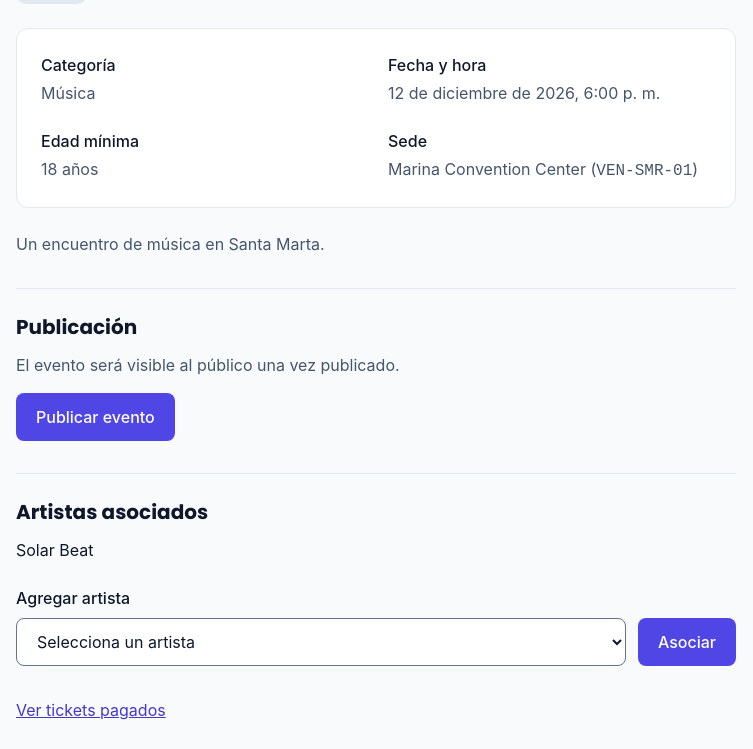
Test: Publicación de eventos › asocia el artista elegido y actualiza el evento y la lista de sesión
(page scrolled)
Select "Neon Waves" in the dropdown labelled "Agregar artista" at (321, 642), box [16,618,626,666]
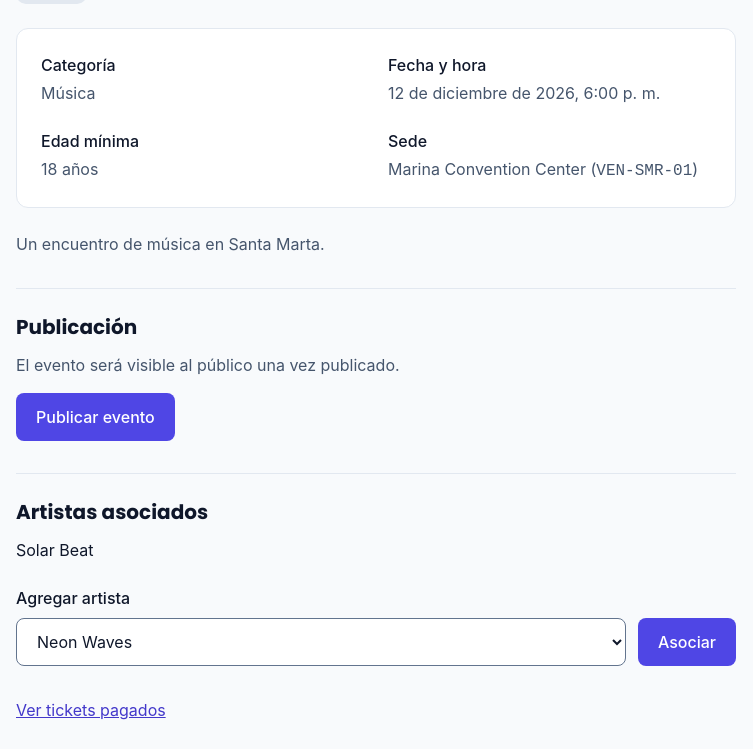
Click the button "Asociar" at (687, 642), box [638,618,736,666]
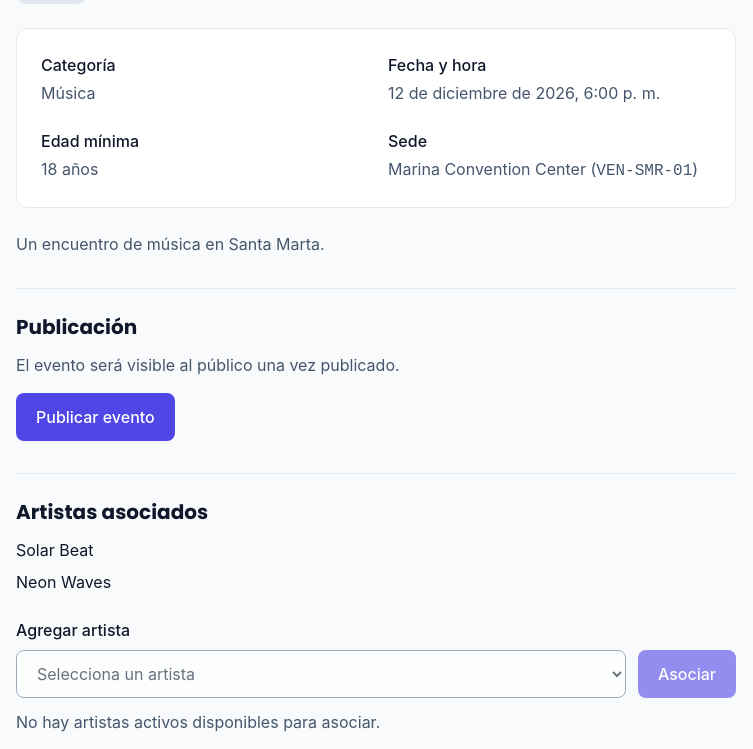
Check: the list shows "Neon Waves", box [16,572,111,592]
